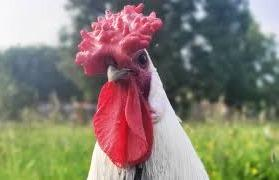AbNormal: (76, 2, 163, 75)
